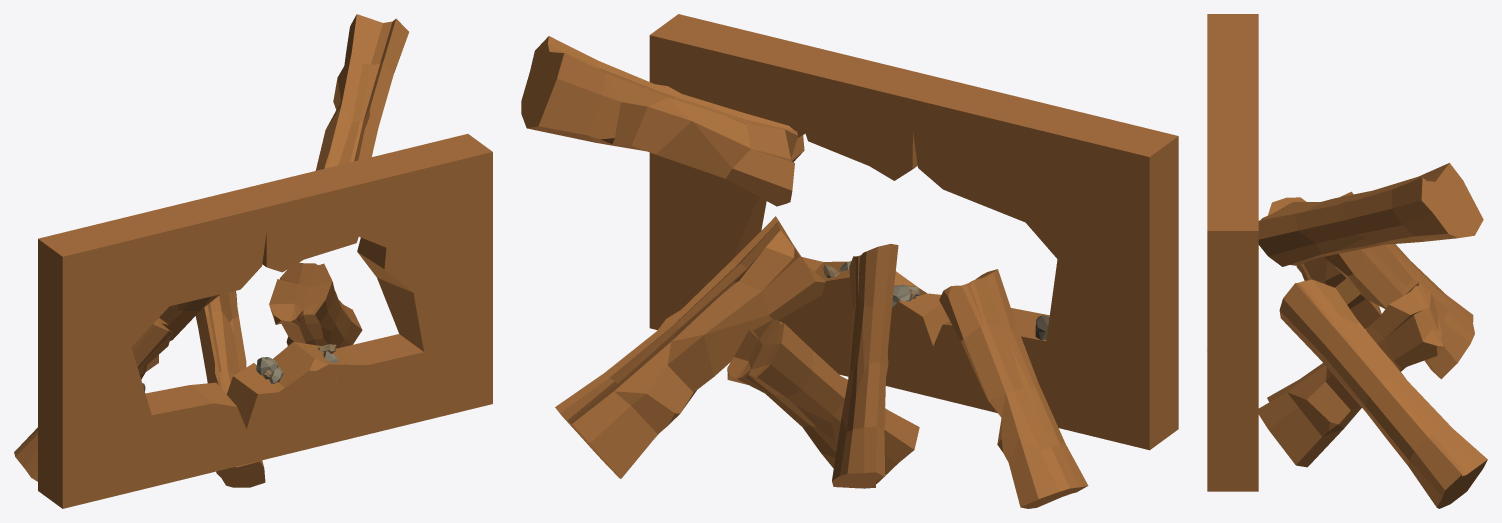
The model's file is Environment1.glb.
3 renders of one model, left to right at view 1: azimuth 30°, elevation 25°; view 2: azimuth 150°, elevation 25°; view 3: azimuth 270°, elevation 25°, orthographic. The views are drawn at different scales.
Parts seen in each view (by area): view 1: Environment, Block5, Block3, Block4, Block1, Block2; view 2: Environment, Block3, Block5, Block1, Block2, Block4; view 3: Environment, Block3, Block5, Block4, Block2, Block1.
Part boxes in pixels (x1=…): Environment: x1=38, y1=134, x2=492, y2=508; Block5: x1=315, y1=14, x2=408, y2=170; Block3: x1=269, y1=262, x2=362, y2=348; Block4: x1=195, y1=291, x2=265, y2=487; Block1: x1=14, y1=318, x2=172, y2=481; Block2: x1=139, y1=294, x2=219, y2=379; Environment: x1=649, y1=14, x2=1178, y2=450; Block3: x1=555, y1=216, x2=825, y2=478; Block5: x1=521, y1=36, x2=797, y2=206; Block1: x1=939, y1=269, x2=1088, y2=508; Block2: x1=832, y1=244, x2=898, y2=488; Block4: x1=727, y1=319, x2=919, y2=488; Environment: x1=1207, y1=14, x2=1258, y2=491; Block3: x1=1279, y1=279, x2=1487, y2=508; Block5: x1=1258, y1=163, x2=1483, y2=266; Block4: x1=1258, y1=282, x2=1442, y2=467; Block2: x1=1324, y1=191, x2=1474, y2=379; Block1: x1=1268, y1=197, x2=1381, y2=328.
Bounding box in the file's own units: 52.32 × 42.26 × 27.35.
